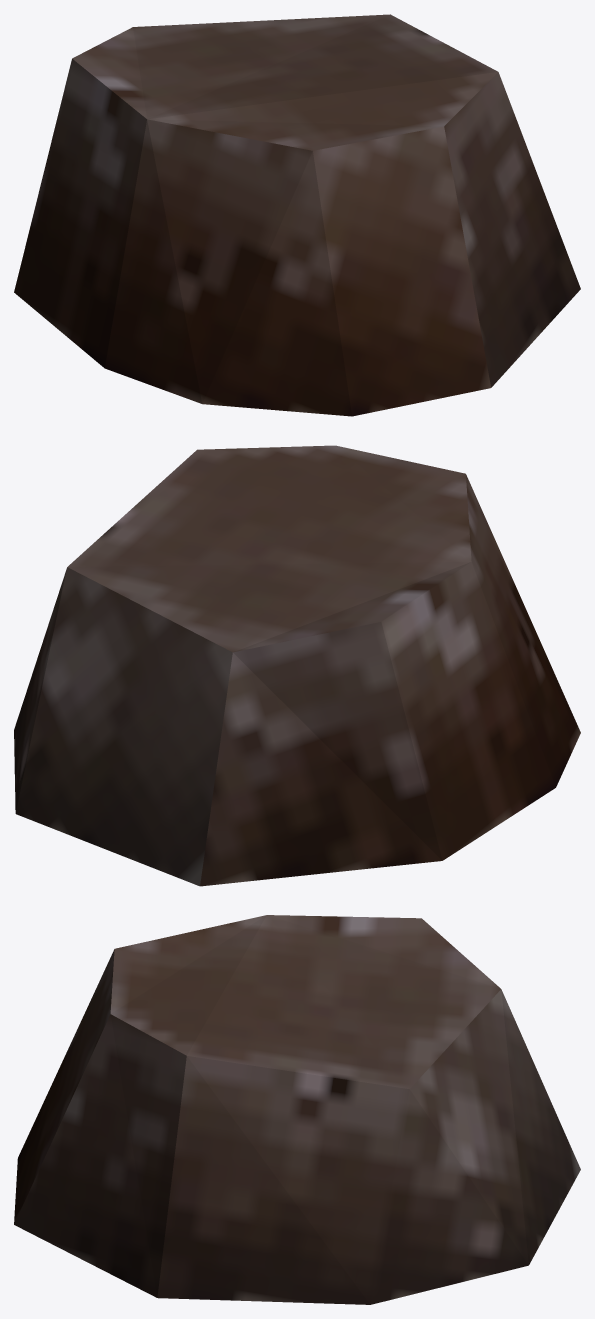
Rendered from rocks_001.fbx.
The picture shows the model from 3 angles, top to bottom: view 1: azimuth 30°, elevation 25°; view 2: azimuth 150°, elevation 25°; view 3: azimuth 270°, elevation 25°; orthographic projection. The views are drawn at different scales.
Visible parts, largest first — view 1: prop_env_rock01_Plane; view 2: prop_env_rock01_Plane; view 3: prop_env_rock01_Plane.
Part boxes in pixels (x1=…): prop_env_rock01_Plane: x1=14, y1=14, x2=580, y2=416; prop_env_rock01_Plane: x1=14, y1=445, x2=580, y2=886; prop_env_rock01_Plane: x1=14, y1=915, x2=580, y2=1304.
Bounding box in the file's own units: 3.8 × 1.84 × 4.33.
